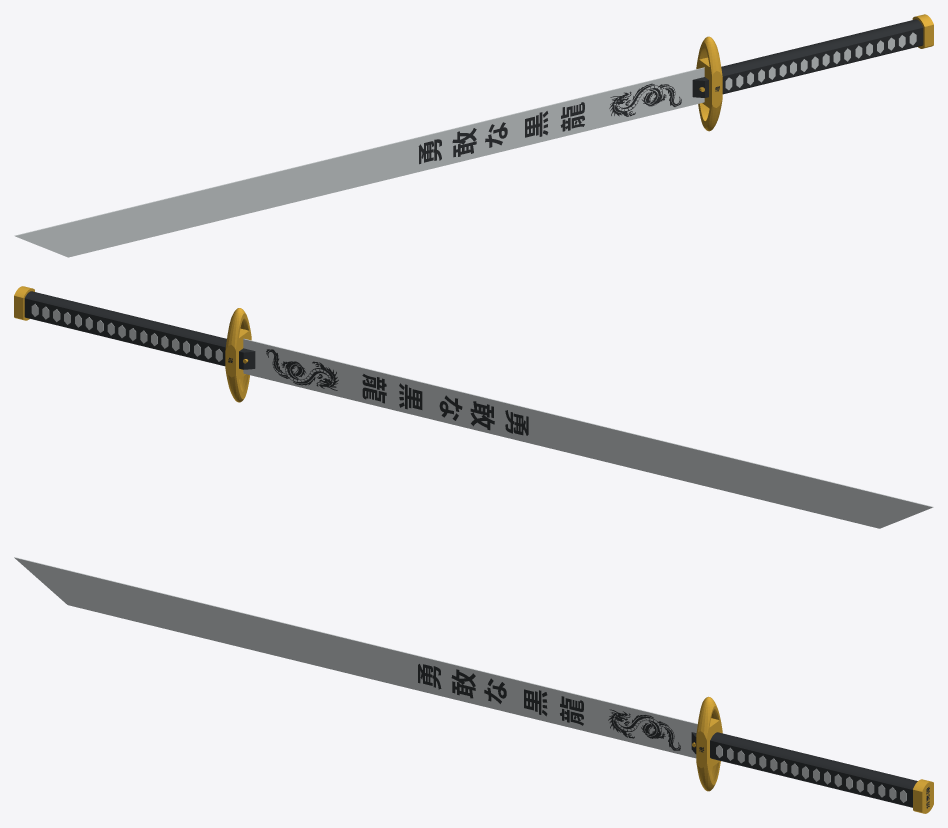
Rendered from bbd_by_lucasarnaudin.obj.
The picture shows the model from 3 angles, top to bottom: view 1: azimuth 30°, elevation 25°; view 2: azimuth 150°, elevation 25°; view 3: azimuth 330°, elevation 25°; orthographic projection.
Visible parts, largest first — view 1: group_0_14541540, group_0_2829873, group_0_14789940; view 2: group_0_14541540, group_0_2829873, group_0_14789940; view 3: group_0_14541540, group_0_2829873, group_0_14789940.
Boxes of the visible parts, <box> form: group_0_14541540: <box>14,32,916,257</box>; group_0_2829873: <box>418,19,923,164</box>; group_0_14789940: <box>696,14,933,131</box>; group_0_14541540: <box>31,304,933,528</box>; group_0_2829873: <box>24,291,528,435</box>; group_0_14789940: <box>14,286,251,402</box>; group_0_14541540: <box>14,557,906,802</box>; group_0_2829873: <box>418,664,929,808</box>; group_0_14789940: <box>692,696,933,813</box>.
Bounding box in the file's own units: 972 × 95.56 × 29.17.
